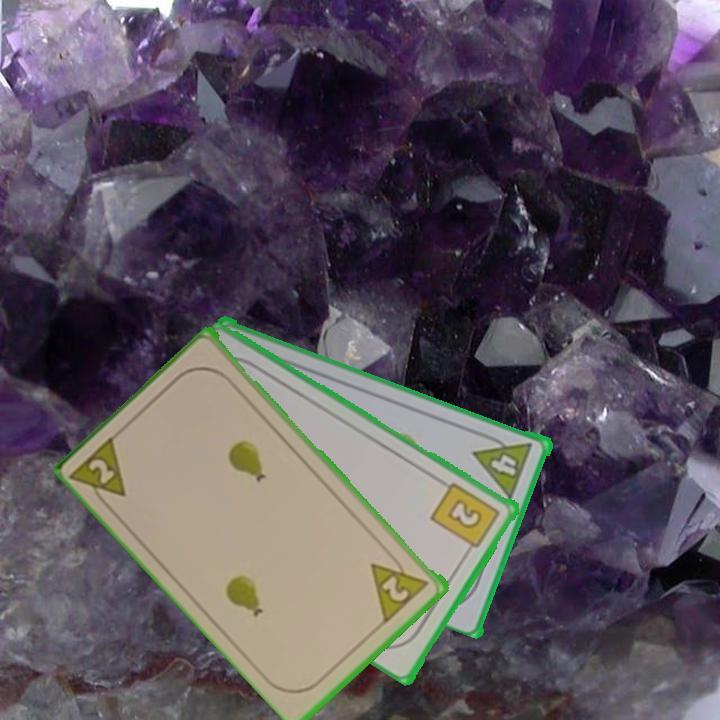2b: (428, 478, 504, 558)
2p: (68, 430, 130, 514), (367, 548, 433, 625)
4p: (471, 429, 536, 501)
